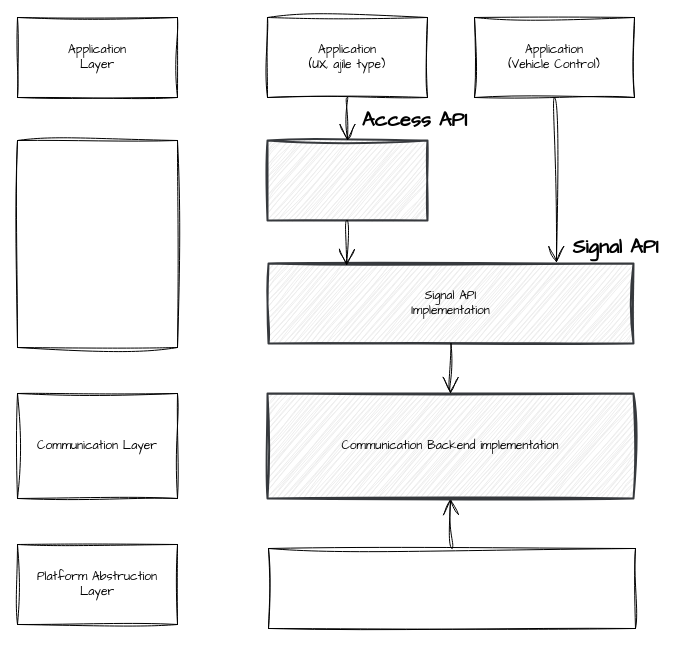
Some shapes in this 700 by 646 pixel diagram are drawn without their labels. Here are the shapes that lost their labels. From the top down, the centre of each, then its label:
At (347,180): "Access API Implementation".
At (97,244): "Vehicle API Layer".
At (452,588): "PAL Implementation".
